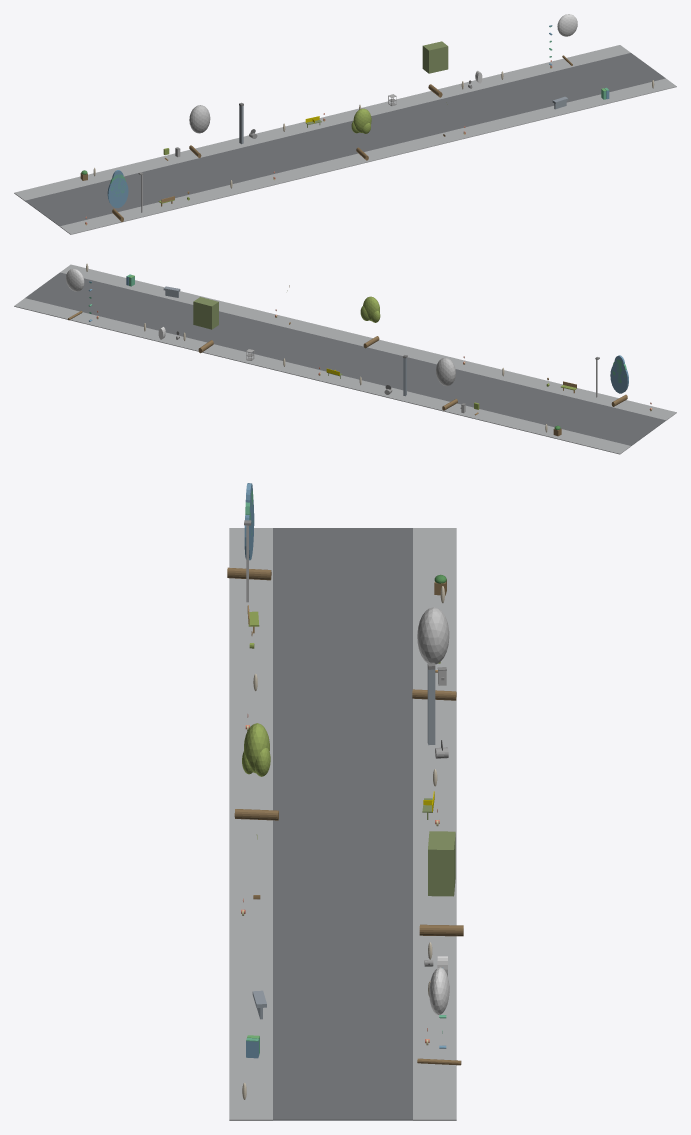
3 renders of one model, top to bottom at view 1: azimuth 30°, elevation 25°; view 2: azimuth 150°, elevation 25°; view 3: azimuth 270°, elevation 25°, orthographic. The views are drawn at different scales.
Visible parts, largest first — view 1: road_slab, sidewalk_left, sidewalk_right, inst_0015, inst_0012, inst_0013, inst_0014, inst_0016; view 2: road_slab, sidewalk_right, sidewalk_left, inst_0015, inst_0012, inst_0013, inst_0014, inst_0016; view 3: road_slab, sidewalk_left, sidewalk_right, inst_0015, inst_0013, inst_0014, inst_0012, inst_0016.
Part boxes in pixels (box(x1,y1,x2,y2)): road_slab: box(25, 53, 665, 226); sidewalk_left: box(60, 78, 676, 234); sidewalk_right: box(14, 45, 630, 200); inst_0015: box(422, 41, 448, 97); inst_0012: box(107, 170, 128, 221); inst_0013: box(189, 105, 210, 157); inst_0014: box(351, 108, 371, 160); inst_0016: box(557, 14, 577, 65); road_slab: box(25, 272, 665, 445); sidewalk_right: box(14, 298, 630, 454); sidewalk_left: box(60, 264, 676, 420); inst_0015: box(193, 297, 218, 353); inst_0012: box(610, 355, 628, 406); inst_0013: box(436, 357, 457, 410); inst_0014: box(360, 296, 380, 348); inst_0016: box(66, 269, 84, 320); road_slab: box(273, 528, 412, 1120); sidewalk_left: box(229, 528, 272, 1120); sidewalk_right: box(413, 528, 456, 1120); inst_0015: box(419, 831, 463, 936); inst_0013: box(412, 607, 456, 700); inst_0014: box(234, 723, 278, 820); inst_0012: box(227, 483, 271, 580); inst_0016: box(417, 967, 461, 1065).
Bounding box in the file's own units: 80 × 6.08 × 13.52.
